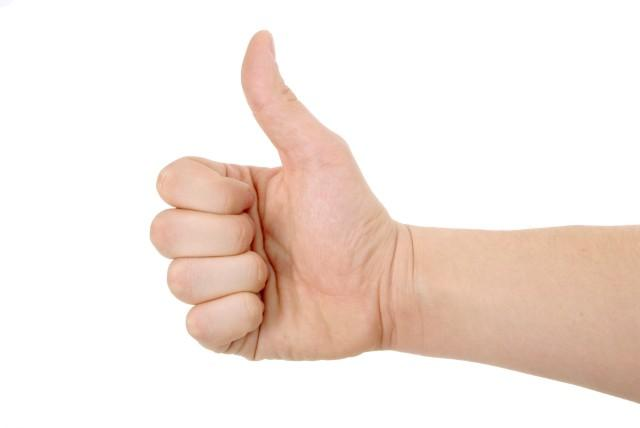thumbsup: (147, 28, 316, 359)
